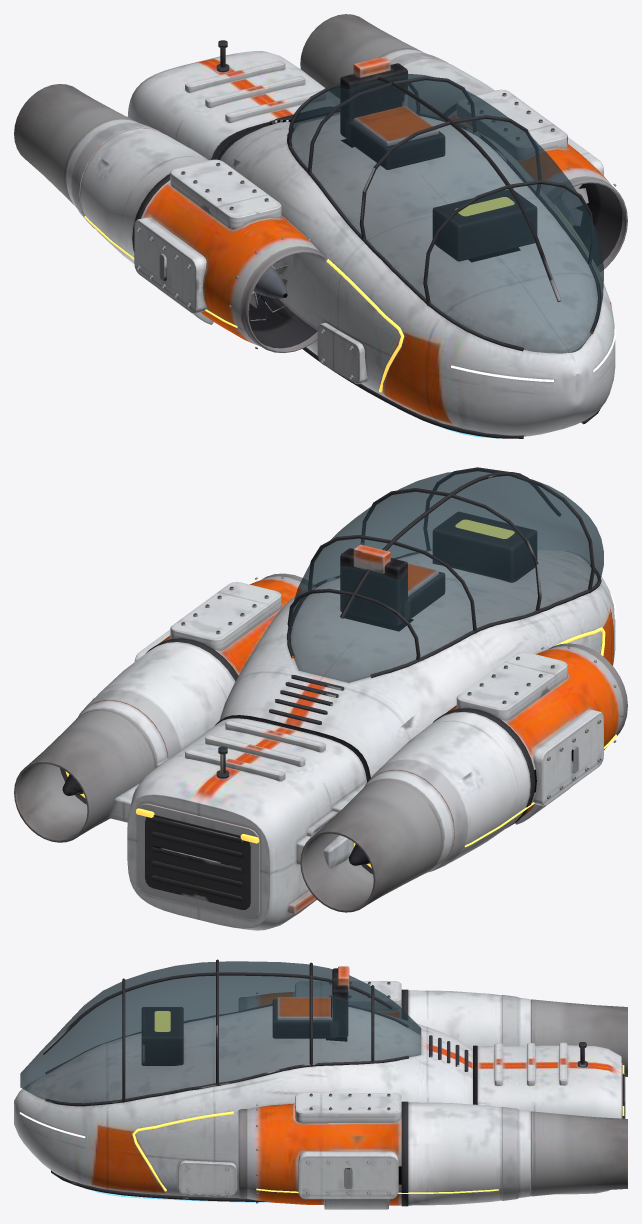
The model's file is courier.glb.
3 views of the same model, one above another, from view 1: azimuth 30°, elevation 25°; view 2: azimuth 150°, elevation 25°; view 3: azimuth 270°, elevation 25° (orthographic). The views are drawn at different scales.
Parts seen in each view (by area): view 1: courier_body, canopy, courier_emissive, fan_R, fan_L; view 2: courier_body, canopy, courier_emissive; view 3: courier_body, canopy, courier_emissive.
Boxes of the visible parts, x1,y1,x2,y2 form: courier_body: [14, 14, 627, 438]; canopy: [288, 73, 603, 353]; courier_emissive: [84, 197, 616, 438]; fan_R: [248, 260, 287, 320]; fan_L: [552, 184, 588, 226]; courier_body: [14, 467, 627, 930]; canopy: [288, 470, 603, 682]; courier_emissive: [65, 519, 616, 868]; courier_body: [14, 959, 627, 1209]; canopy: [20, 961, 421, 1103]; courier_emissive: [19, 1011, 624, 1202].
Size of the model in its own units: 2.38 by 1.39 by 3.8.
6 materials, 2 textured.
